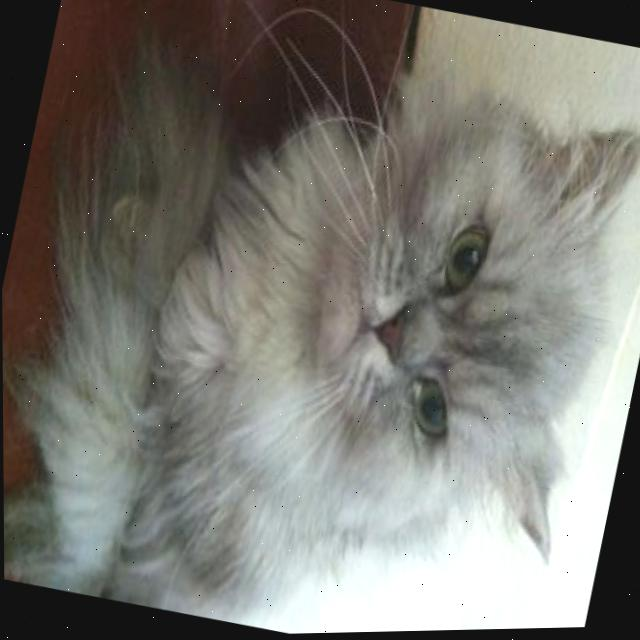Persian: (0, 2, 640, 640)
